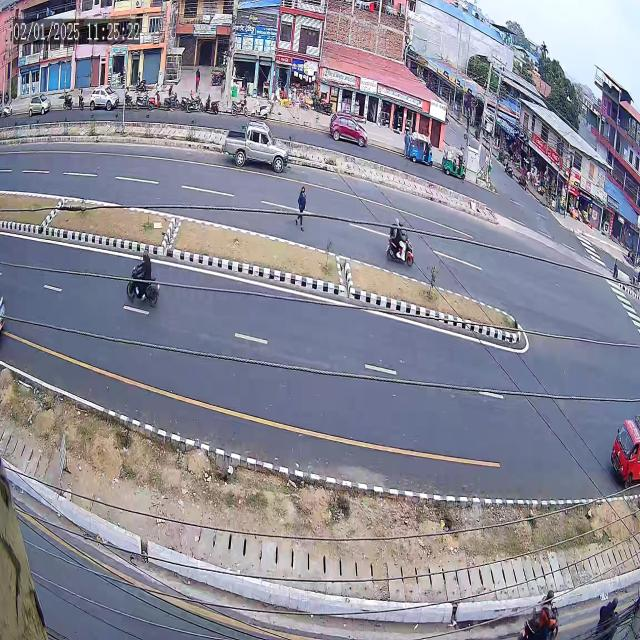motorcycle: (119, 236, 167, 332), (376, 206, 423, 284)
